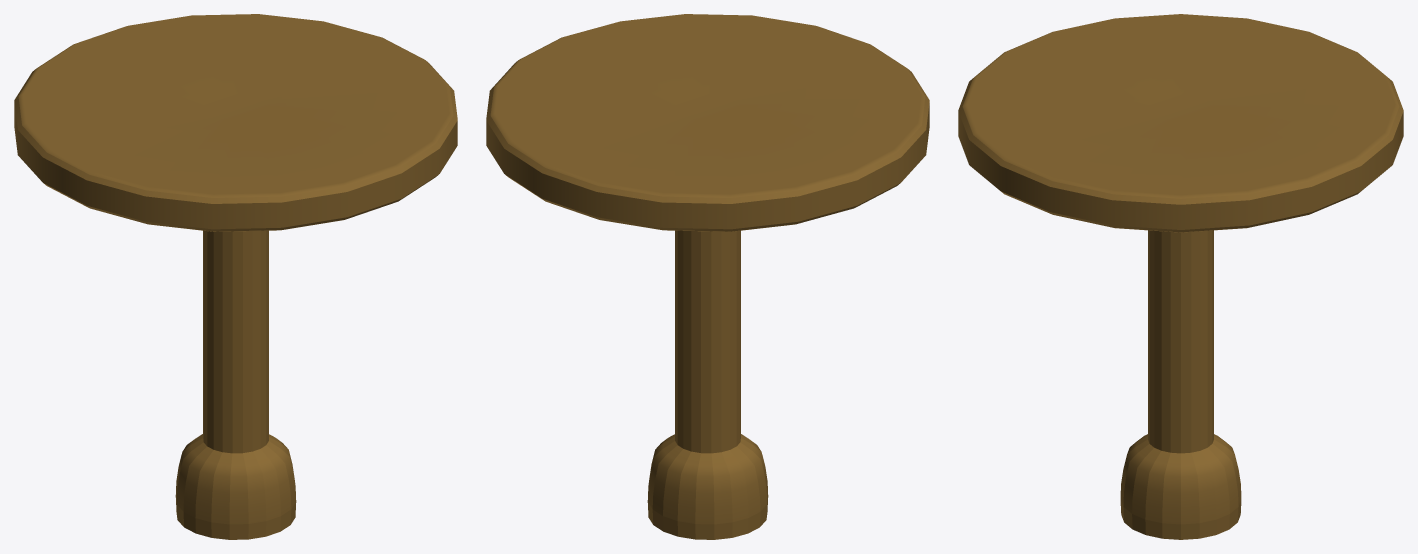
Rendered from chair.fbx.
3 renders of one model, left to right at view 1: azimuth 30°, elevation 25°; view 2: azimuth 150°, elevation 25°; view 3: azimuth 270°, elevation 25°, orthographic.
Parts seen in each view (by area): view 1: chair6; view 2: chair6; view 3: chair6.
Boxes of the visible parts, box(x1,y1,x2,y2) form: chair6: box(14, 14, 457, 539); chair6: box(486, 14, 929, 539); chair6: box(958, 14, 1403, 539).
Size of the model in its own units: 0.6364 by 0.6465 by 0.6364.
